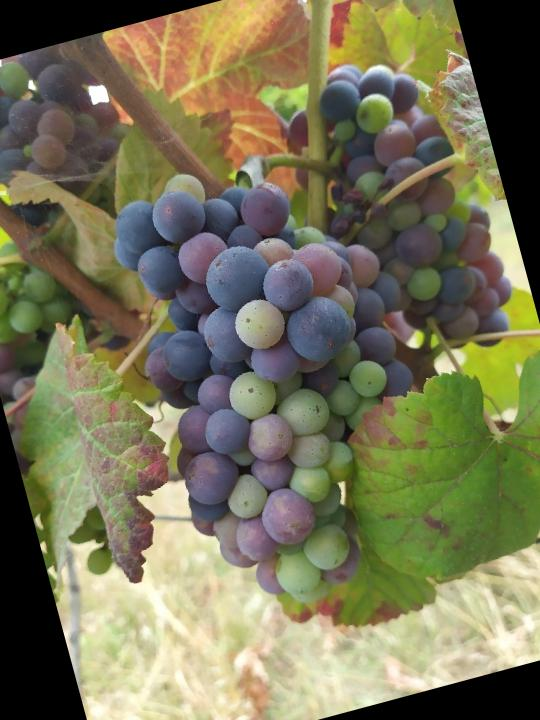grape: (94, 121, 476, 632)
